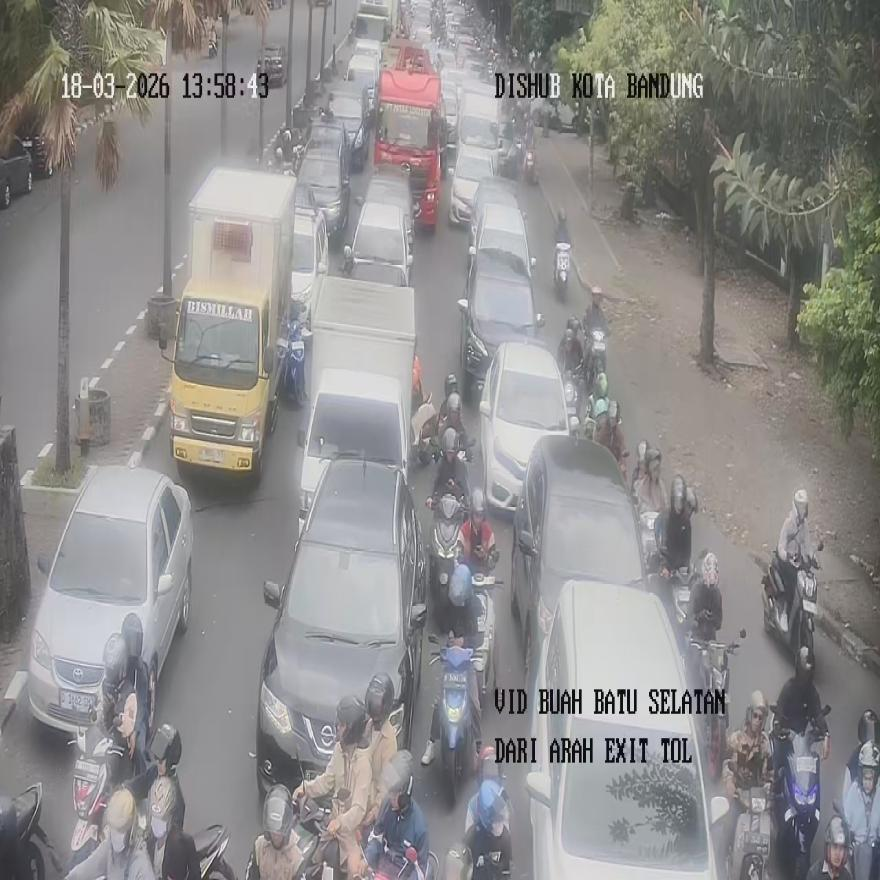Mobil: (524, 580, 730, 877), (256, 451, 426, 804), (27, 465, 192, 740), (510, 431, 647, 676), (297, 273, 417, 540), (457, 194, 545, 398), (478, 340, 574, 514), (342, 164, 418, 286)
Motor: (769, 705, 829, 878), (425, 634, 480, 803), (295, 772, 373, 879), (688, 629, 743, 780), (762, 540, 822, 674), (839, 708, 879, 877), (0, 781, 58, 879), (724, 780, 772, 880), (426, 490, 466, 609), (469, 574, 496, 706), (278, 315, 311, 407), (372, 841, 439, 880), (580, 324, 607, 396), (554, 242, 570, 299), (522, 146, 537, 183), (208, 28, 219, 59)
Truk ringan: (157, 165, 295, 477)
